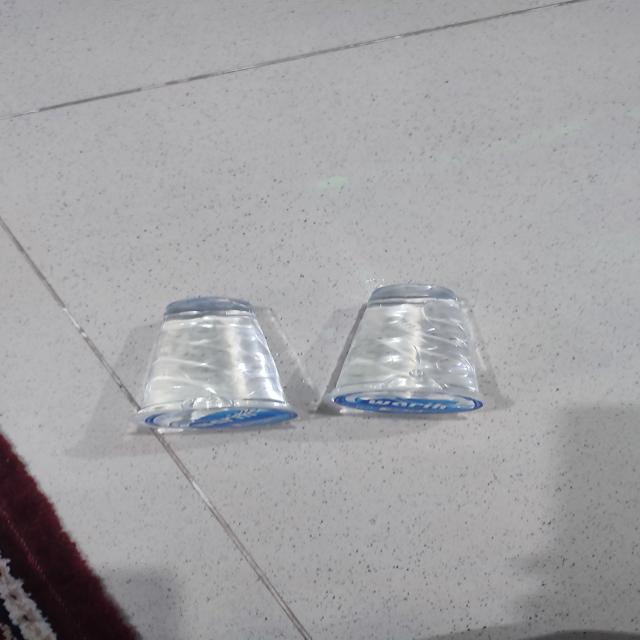air gelas: (323, 283, 511, 420), (130, 296, 305, 430)
